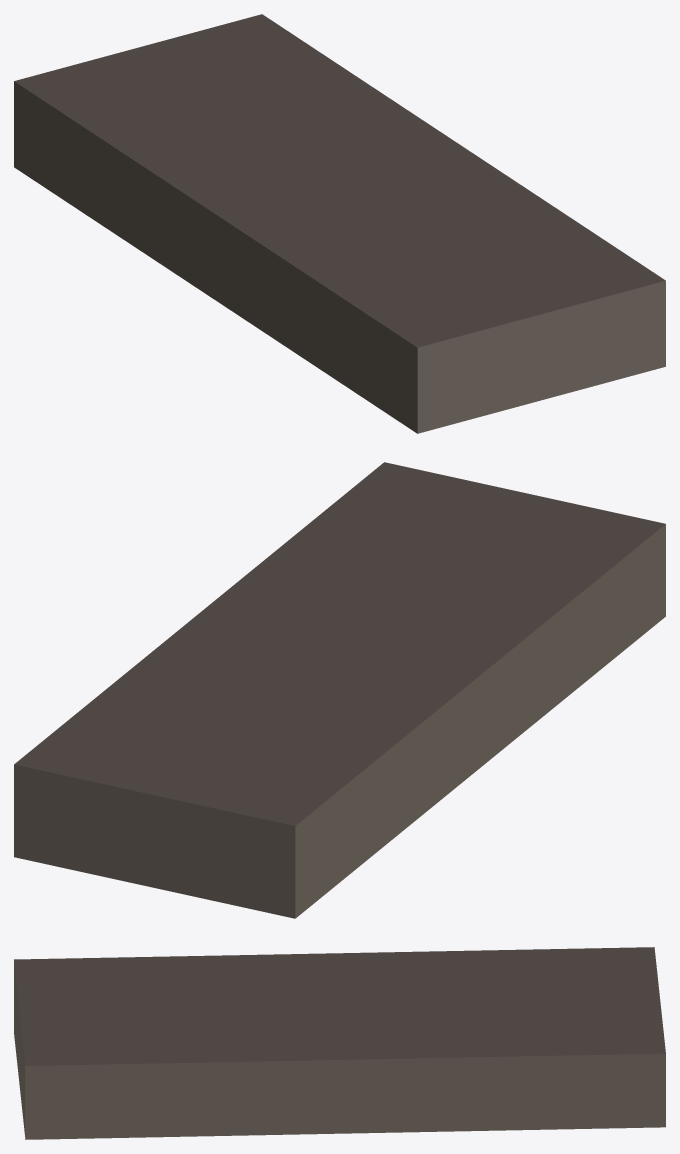
3 renders of one model, top to bottom at view 1: azimuth 30°, elevation 25°; view 2: azimuth 150°, elevation 25°; view 3: azimuth 270°, elevation 25°, orthographic. The views are drawn at different scales.
Visible parts, largest first — view 1: HP-w694630319; view 2: HP-w694630319; view 3: HP-w694630319.
Part boxes in pixels (x1=…): HP-w694630319: x1=14, y1=14, x2=665, y2=433; HP-w694630319: x1=14, y1=462, x2=665, y2=918; HP-w694630319: x1=14, y1=947, x2=665, y2=1139.
Bounding box in the file's own units: 10.38 × 3 × 24.04.
